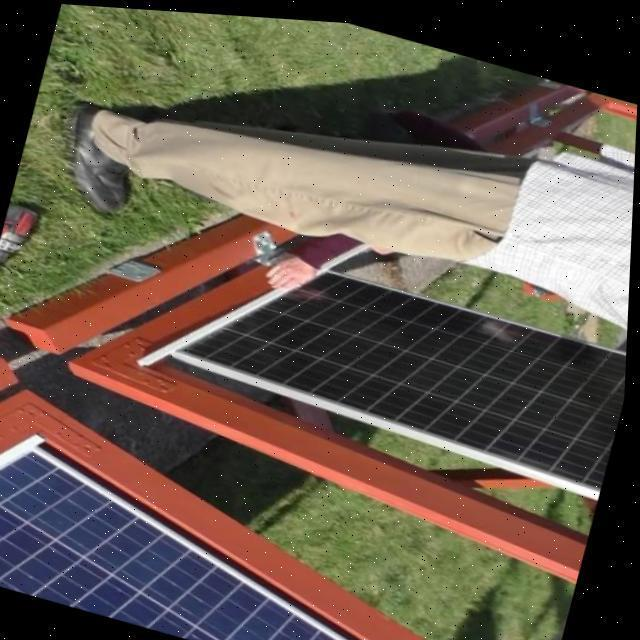Normal Solar Panel: (0, 420, 551, 640), (172, 223, 632, 484)
